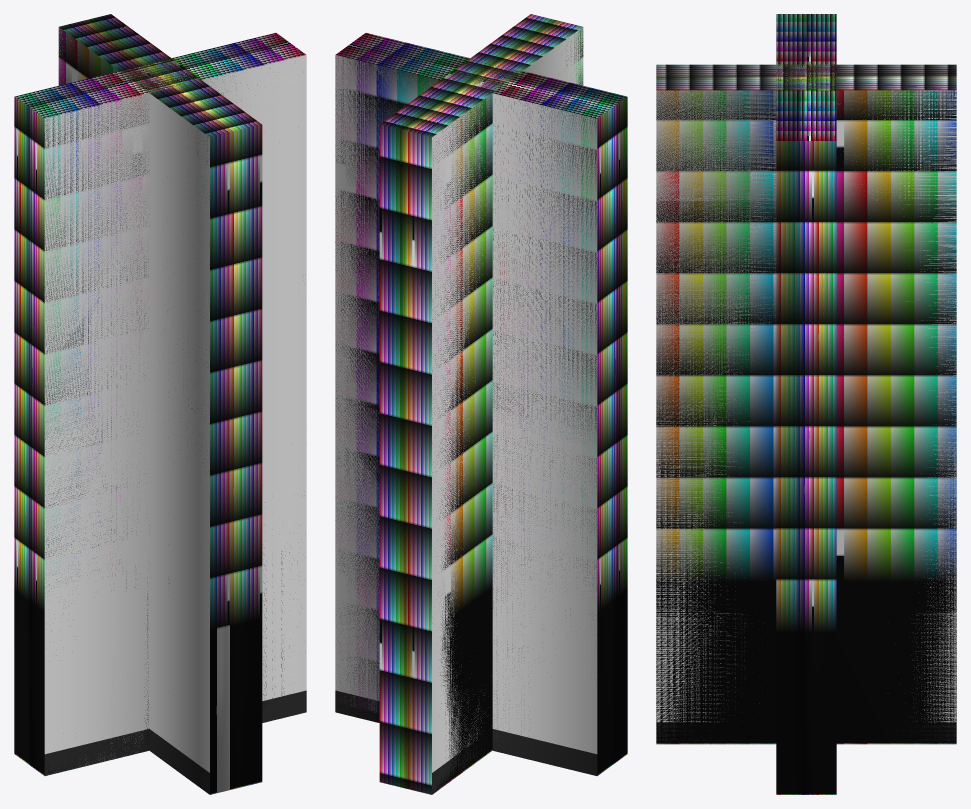
Rendered from interiorWall_Crossroad_half_white.fbx.
3 views of the same model, side by side, from view 1: azimuth 30°, elevation 25°; view 2: azimuth 150°, elevation 25°; view 3: azimuth 270°, elevation 25° (orthographic).
Parts seen in each view (by area): view 1: interiorWall_Crossroad_half_white, interiorWall_Crossroad_half_trigger_1_white, interiorWall_Crossroad_half_trigger_2_white; view 2: interiorWall_Crossroad_half_white, interiorWall_Crossroad_half_trigger_1_white, interiorWall_Crossroad_half_trigger_2_white; view 3: interiorWall_Crossroad_half_trigger_1_white, interiorWall_Crossroad_half_trigger_2_white, interiorWall_Crossroad_half_white.
Boxes of the visible parts, box(x1,y1,x2,y2) form: interiorWall_Crossroad_half_white: box(44, 27, 306, 794); interiorWall_Crossroad_half_trigger_1_white: box(58, 14, 262, 794); interiorWall_Crossroad_half_trigger_2_white: box(14, 33, 306, 775); interiorWall_Crossroad_half_white: box(335, 28, 597, 794); interiorWall_Crossroad_half_trigger_1_white: box(379, 14, 583, 794); interiorWall_Crossroad_half_trigger_2_white: box(335, 33, 627, 775); interiorWall_Crossroad_half_trigger_1_white: box(656, 64, 956, 744); interiorWall_Crossroad_half_trigger_2_white: box(776, 14, 836, 794); interiorWall_Crossroad_half_white: box(656, 90, 956, 744).
Size of what is drawn, in the model's own units: 125 by 300 by 125.
